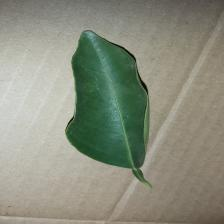healthy: (43, 28, 222, 215)
